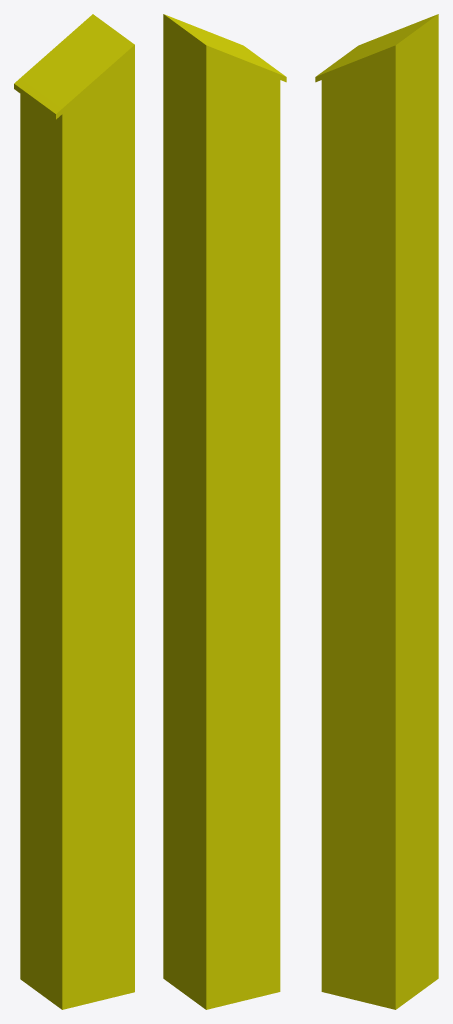
Rendered from Background_Butress_01.fbx.
3 views of the same model, side by side, from view 1: azimuth 30°, elevation 25°; view 2: azimuth 210°, elevation 25°; view 3: azimuth 330°, elevation 25° (orthographic).
Visible parts, largest first — view 1: Background_Butress_01; view 2: Background_Butress_01; view 3: Background_Butress_01.
Part boxes in pixels (box(x1,y1,x2,y2)): Background_Butress_01: box(14, 14, 134, 1009); Background_Butress_01: box(163, 14, 286, 1009); Background_Butress_01: box(315, 14, 438, 1009).
Size of the model in its own units: 326 by 3739 by 300.
